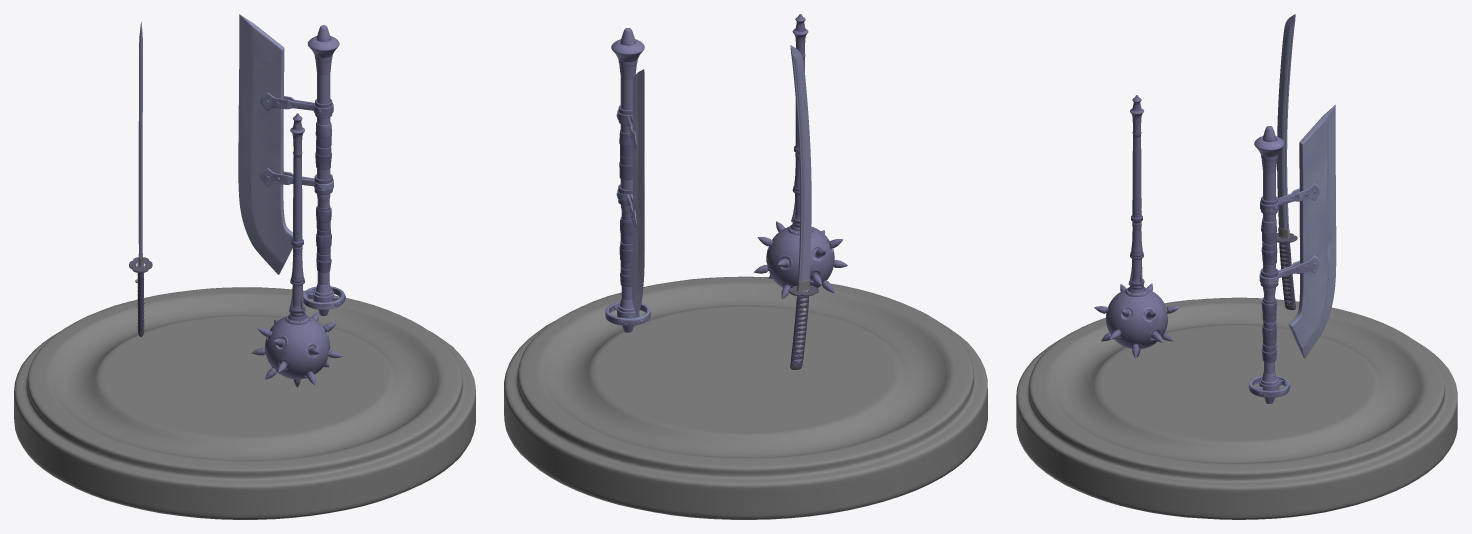
The model's file is MaceKatanaAxe_Pack.fbx.
The picture shows the model from 3 angles, left to right: view 1: azimuth 30°, elevation 25°; view 2: azimuth 150°, elevation 25°; view 3: azimuth 270°, elevation 25°; orthographic projection. The views are drawn at different scales.
Parts seen in each view (by area): view 1: PM3D_Cylinder3D1_1, Axe_deci, Mace_deci, katana_deci; view 2: PM3D_Cylinder3D1_1, Axe_deci, Mace_deci, katana_deci; view 3: PM3D_Cylinder3D1_1, Axe_deci, Mace_deci, katana_deci.
Boxes of the visible parts, x1,y1,x2,y2 form: PM3D_Cylinder3D1_1: (14, 287, 475, 519); Axe_deci: (238, 14, 345, 316); Mace_deci: (251, 113, 343, 387); katana_deci: (129, 22, 152, 336); PM3D_Cylinder3D1_1: (504, 276, 987, 519); Axe_deci: (605, 28, 650, 332); Mace_deci: (754, 14, 847, 299); katana_deci: (788, 45, 818, 369); PM3D_Cylinder3D1_1: (1016, 297, 1457, 519); Axe_deci: (1248, 104, 1336, 403); Mace_deci: (1094, 95, 1179, 358); katana_deci: (1276, 14, 1297, 310).
Bounding box in the file's own units: 558 × 531 × 558.
